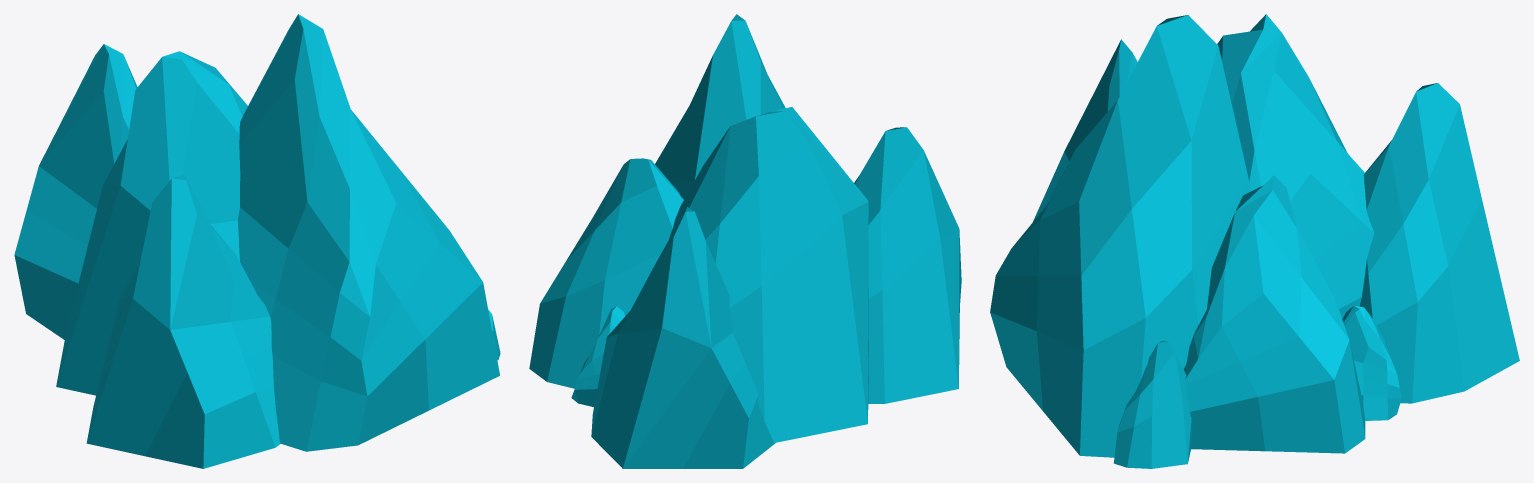
File: rocks.fbx
The picture shows the model from 3 angles, left to right: view 1: azimuth 30°, elevation 25°; view 2: azimuth 150°, elevation 25°; view 3: azimuth 270°, elevation 25°; orthographic projection. The views are drawn at different scales.
Parts seen in each view (by area): view 1: Cube.001; view 2: Cube.001; view 3: Cube.001.
Part boxes in pixels (x1,y1,x2,y2): Cube.001: (14,14,500,468); Cube.001: (529,14,961,468); Cube.001: (990,14,1519,468).
Size of the model in its own units: 451 by 383 by 501.
